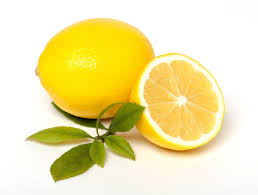lemon: (26, 12, 169, 128)
